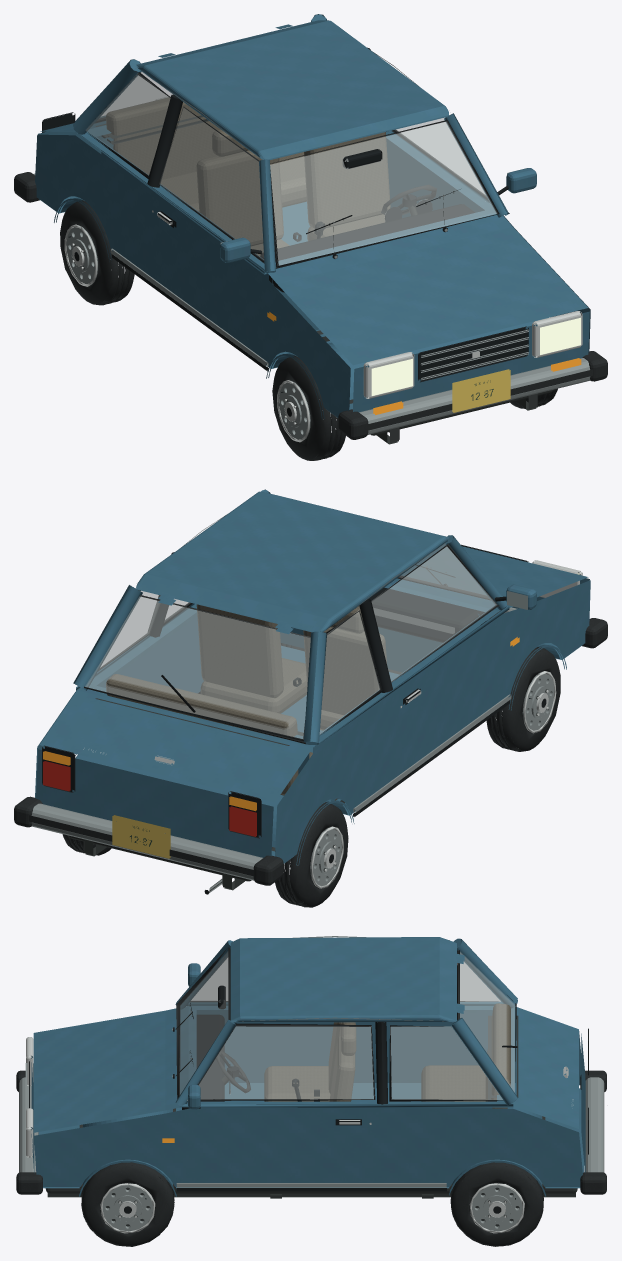
Rendered from kei_hatchback-v11.glb.
The picture shows the model from 3 angles, top to bottom: view 1: azimuth 30°, elevation 25°; view 2: azimuth 150°, elevation 25°; view 3: azimuth 270°, elevation 25°; orthographic projection. The views are drawn at different scales.
Parts seen in each view (by area): view 1: Body, Wheel_FL_mesh, Wheel_RL_mesh; view 2: Body, Wheel_RL_mesh, Wheel_FL_mesh; view 3: Body, Wheel_RR_mesh, Wheel_FR_mesh.
Boxes of the visible parts, left/top/right/bottom form: Body: left=14, top=14, right=607, bottom=444; Wheel_FL_mesh: left=272, top=355, right=345, bottom=460; Wheel_RL_mesh: left=60, top=200, right=134, bottom=305; Body: left=14, top=489, right=607, bottom=894; Wheel_RL_mesh: left=275, top=802, right=348, bottom=907; Wheel_FL_mesh: left=486, top=647, right=560, bottom=751; Body: left=16, top=936, right=606, bottom=1198; Wheel_RR_mesh: left=450, top=1162, right=543, bottom=1246; Wheel_FR_mesh: left=81, top=1162, right=174, bottom=1246.
Size of the model in its own units: 1.76 by 1.37 by 3.33.
Materials: 15 (3 with a texture image).
